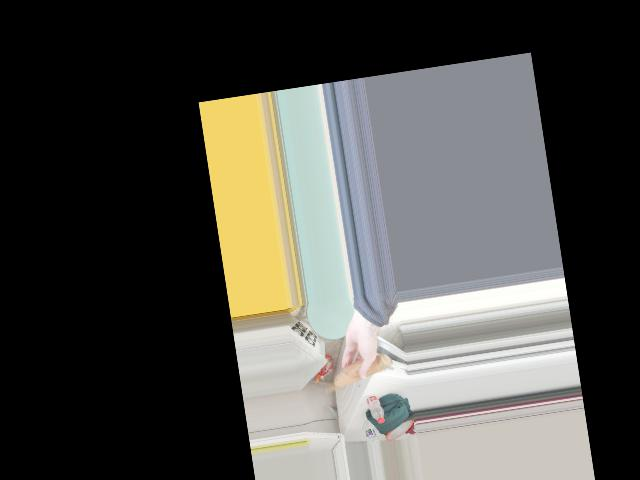sweet_potato: (323, 350, 391, 395)
